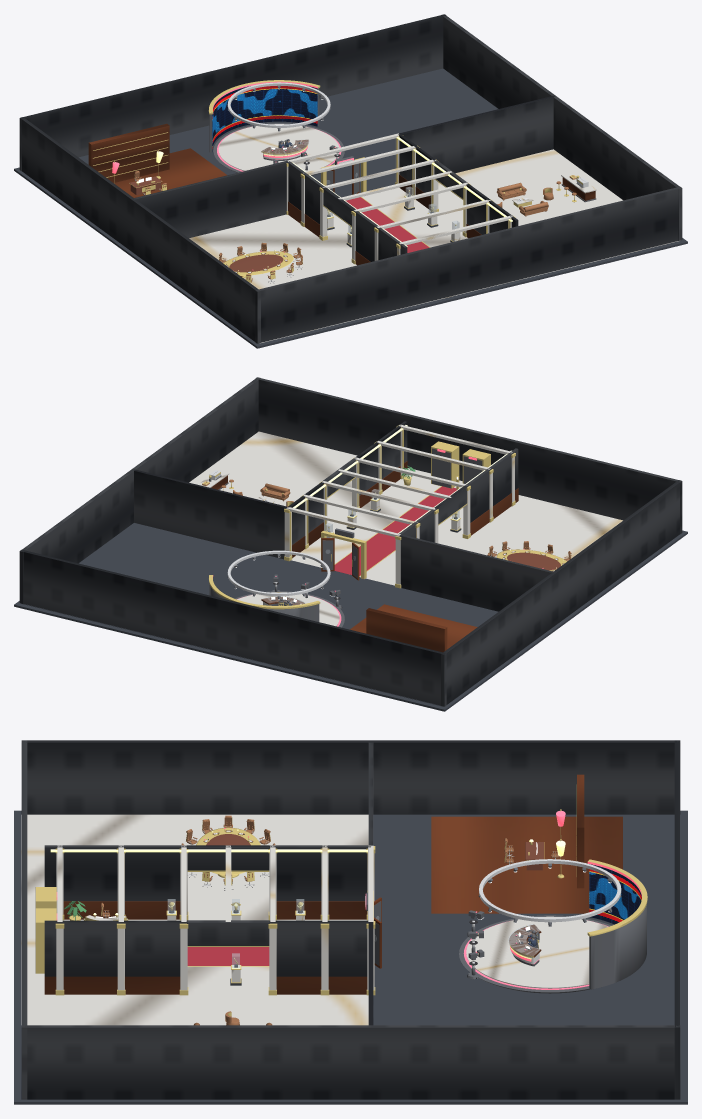
The model's file is haber_global_full_hq_complex.glb.
The picture shows the model from 3 angles, top to bottom: view 1: azimuth 30°, elevation 25°; view 2: azimuth 150°, elevation 25°; view 3: azimuth 270°, elevation 25°; orthographic projection. The views are drawn at different scales.
Visible parts, largest first — view 1: HG_Zone0_Architectural_Shell, HG_Zones5_6_Main_Broadcast_Studio, HG_Zone7_Hakan_Karadag_Executive_Office, HG_Zone3_Diplomatic_Council_Chamber, HG_Zone4_VIP_Lounge_Barista, HG_Zone2_Trophy_Hallway_Vitrines; view 2: HG_Zone0_Architectural_Shell, HG_Zones5_6_Main_Broadcast_Studio, HG_Zone7_Hakan_Karadag_Executive_Office, HG_Zone1_Elevator_Reception_Lobby, HG_Zone3_Diplomatic_Council_Chamber, HG_Zone4_VIP_Lounge_Barista, HG_Zone2_Trophy_Hallway_Vitrines; view 3: HG_Zone0_Architectural_Shell, HG_Zones5_6_Main_Broadcast_Studio, HG_Zone7_Hakan_Karadag_Executive_Office, HG_Zone3_Diplomatic_Council_Chamber, HG_Zone1_Elevator_Reception_Lobby, HG_Zone2_Trophy_Hallway_Vitrines.
Boxes of the visible parts, x1=… form: HG_Zone0_Architectural_Shell: x1=14, y1=14, x2=687, y2=348; HG_Zones5_6_Main_Broadcast_Studio: x1=208, y1=80, x2=366, y2=194; HG_Zone7_Hakan_Karadag_Executive_Office: x1=88, y1=123, x2=169, y2=195; HG_Zone3_Diplomatic_Council_Chamber: x1=219, y1=242, x2=302, y2=283; HG_Zone4_VIP_Lounge_Barista: x1=496, y1=172, x2=596, y2=216; HG_Zone2_Trophy_Hallway_Vitrines: x1=327, y1=186, x2=460, y2=247; HG_Zone0_Architectural_Shell: x1=14, y1=377, x2=687, y2=711; HG_Zones5_6_Main_Broadcast_Studio: x1=208, y1=528, x2=366, y2=627; HG_Zone7_Hakan_Karadag_Executive_Office: x1=366, y1=608, x2=447, y2=652; HG_Zone1_Elevator_Reception_Lobby: x1=401, y1=441, x2=490, y2=489; HG_Zone3_Diplomatic_Council_Chamber: x1=487, y1=541, x2=571, y2=571; HG_Zone4_VIP_Lounge_Barista: x1=198, y1=470, x2=293, y2=506; HG_Zone2_Trophy_Hallway_Vitrines: x1=325, y1=489, x2=461, y2=537; HG_Zone0_Architectural_Shell: x1=14, y1=740, x2=687, y2=1104; HG_Zones5_6_Main_Broadcast_Studio: x1=365, y1=859, x2=647, y2=993; HG_Zone7_Hakan_Karadag_Executive_Office: x1=504, y1=774, x2=584, y2=888; HG_Zone3_Diplomatic_Council_Chamber: x1=181, y1=815, x2=275, y2=890; HG_Zone1_Elevator_Reception_Lobby: x1=35, y1=887, x2=128, y2=973; HG_Zone2_Trophy_Hallway_Vitrines: x1=166, y1=899, x2=305, y2=985.
Size of the model in its own units: 45 by 5.42 by 44.
Materials: 22 (4 with a texture image).
